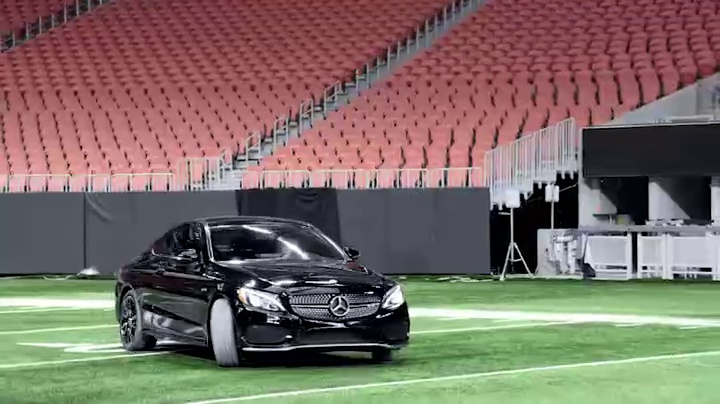amg: (114, 214, 413, 370)
